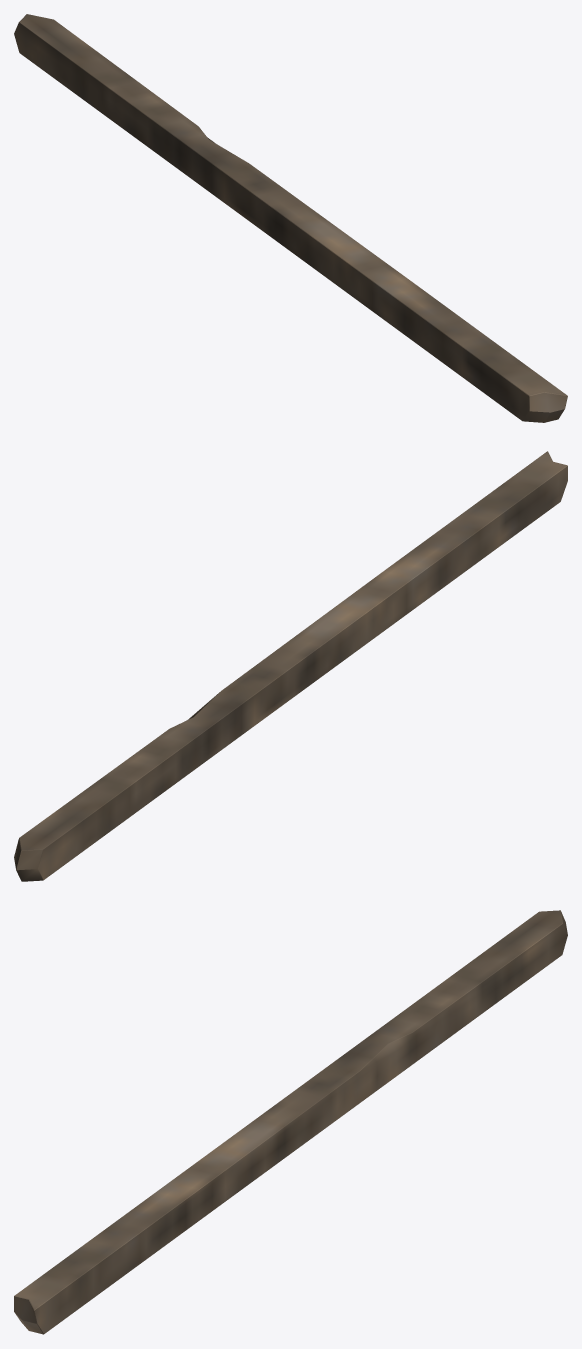
The model's file is Planche8.glb.
The picture shows the model from 3 angles, top to bottom: view 1: azimuth 30°, elevation 25°; view 2: azimuth 150°, elevation 25°; view 3: azimuth 330°, elevation 25°; orthographic projection. The views are drawn at different scales.
Parts seen in each view (by area): view 1: post_02_Planks_SHD_0; view 2: post_02_Planks_SHD_0; view 3: post_02_Planks_SHD_0.
Part boxes in pixels (box(x1,y1,x2,y2)): post_02_Planks_SHD_0: box(14, 14, 567, 422); post_02_Planks_SHD_0: box(14, 451, 567, 881); post_02_Planks_SHD_0: box(14, 910, 567, 1334).
Bounding box in the file's own units: 0.1216 × 0.1216 × 3.8.
Materials: 1 (1 with a texture image).
